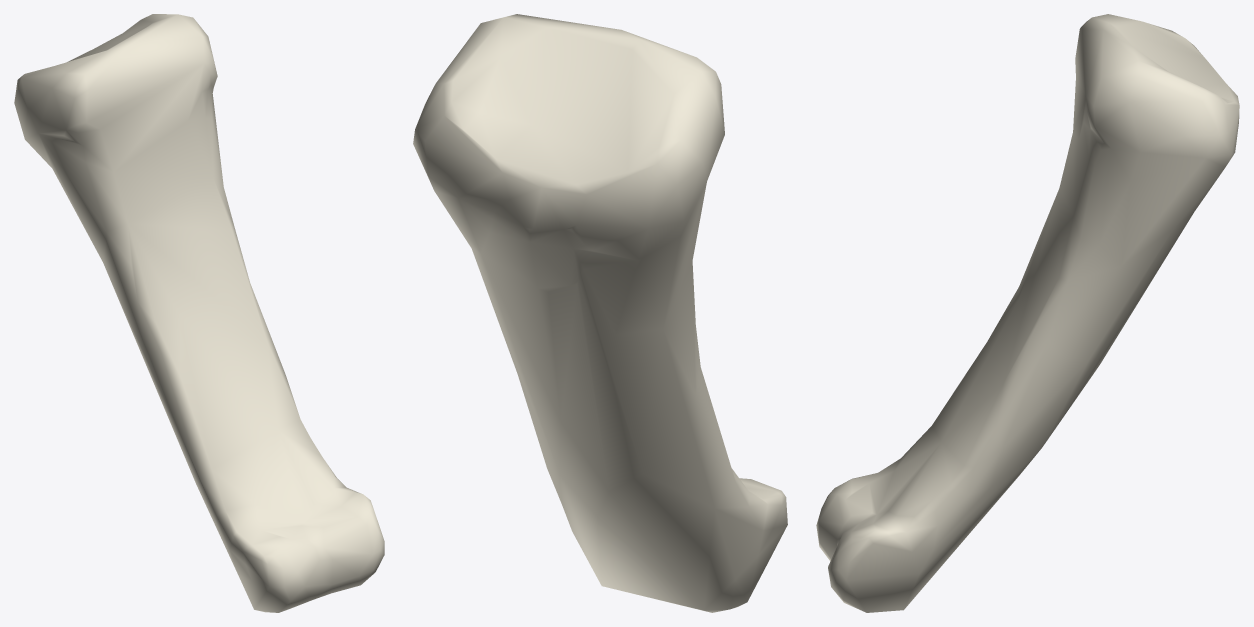
The picture shows the model from 3 angles, left to right: view 1: azimuth 30°, elevation 25°; view 2: azimuth 150°, elevation 25°; view 3: azimuth 270°, elevation 25°; orthographic projection. The views are drawn at different scales.
Parts seen in each view (by area): view 1: ZA_c30338b26464d922; view 2: ZA_c30338b26464d922; view 3: ZA_c30338b26464d922.
Boxes of the visible parts, left/top/right/bottom form: ZA_c30338b26464d922: left=14, top=14, right=384, bottom=612; ZA_c30338b26464d922: left=413, top=14, right=787, bottom=612; ZA_c30338b26464d922: left=816, top=14, right=1239, bottom=612.
Size of the model in its own units: 0.019 by 0.0421 by 0.0302.
